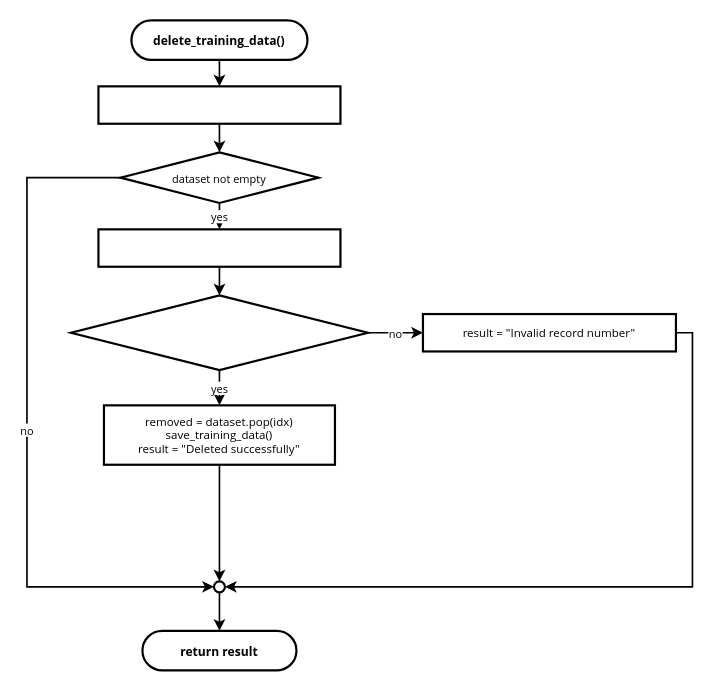
Image size: 722x690. Some labels were removed from this diagram. Here are the shapes that lost their labels. From the top down, the centre of each, then its label:
point (219, 104): result = "No data to delete"
point (219, 247): val = input("record number")
point (219, 332): val.isdigit() & 0 <= idx < len(dataset)
